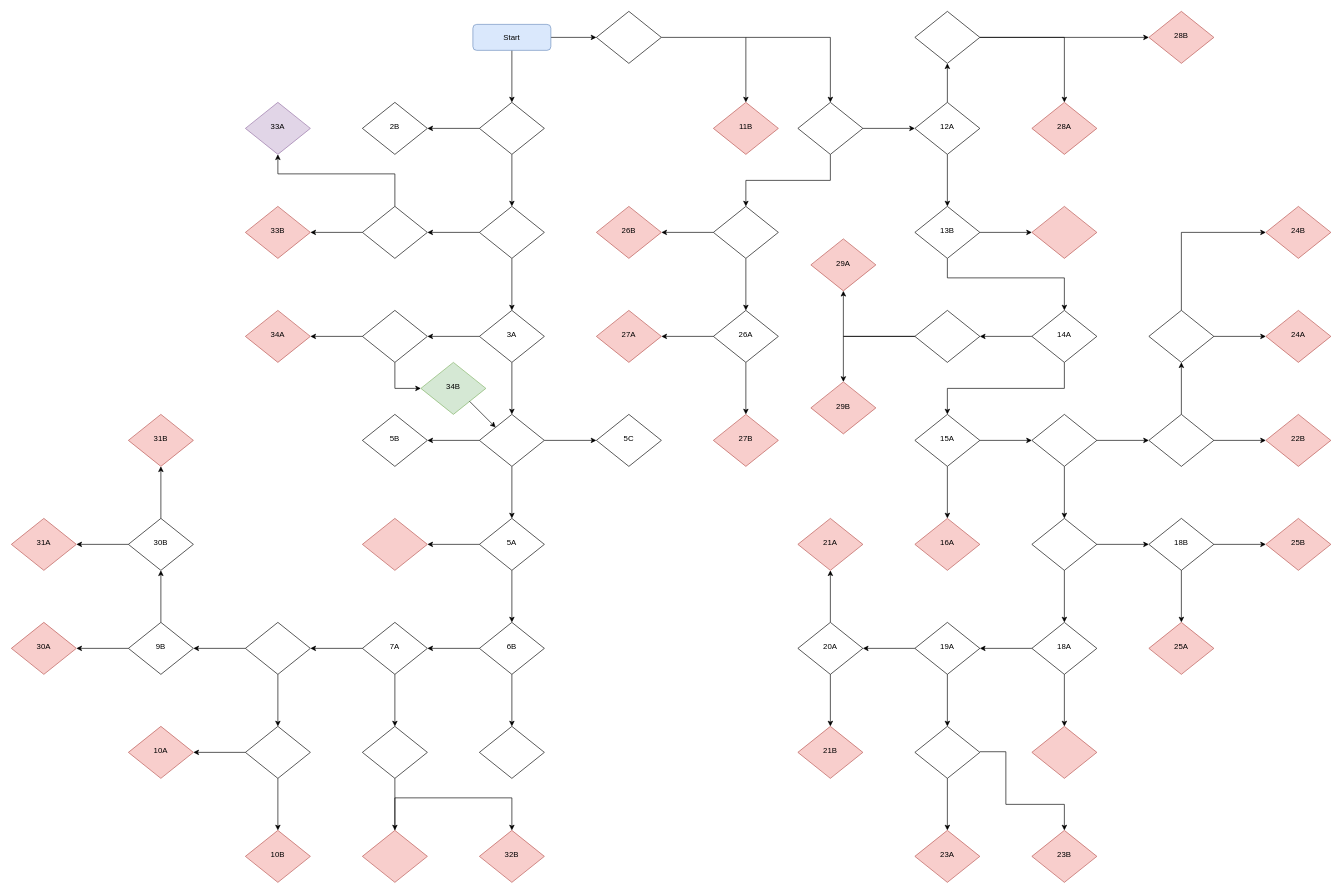
Image size: 1342x894. Some labels were removed from this diagram. The shapes that lost their labels are listed below. From the top down, each one's box as (x1, y1, x2, y2) in pixels, then its label:
(596, 11, 661, 63): 1B
(914, 11, 980, 63): 13A
(479, 102, 544, 154): 1A
(797, 102, 863, 154): 11A
(362, 206, 427, 258): 3B
(479, 206, 544, 258): 2A
(713, 206, 778, 258): 12B
(1031, 206, 1097, 258): 14B
(362, 310, 427, 362): 4B
(914, 310, 980, 362): 15B
(1148, 310, 1214, 362): 22A
(479, 414, 544, 466): 4A
(1031, 414, 1097, 466): 16B
(1148, 414, 1214, 466): 17B
(362, 518, 427, 570): 6A
(1031, 518, 1097, 570): 17A
(245, 622, 310, 674): 8A
(245, 726, 310, 778): 9A
(362, 726, 427, 778): 8B
(479, 726, 544, 778): 7B
(914, 726, 980, 778): 20B
(1031, 726, 1097, 778): 19B
(362, 830, 427, 882): 32A
